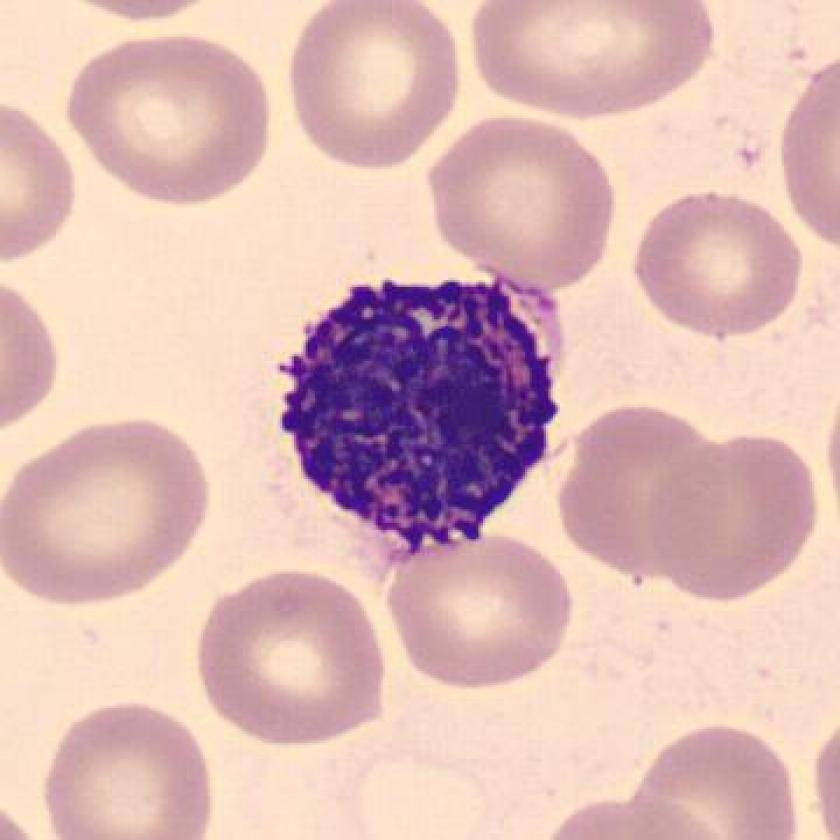basophil: (258, 270, 573, 566)
